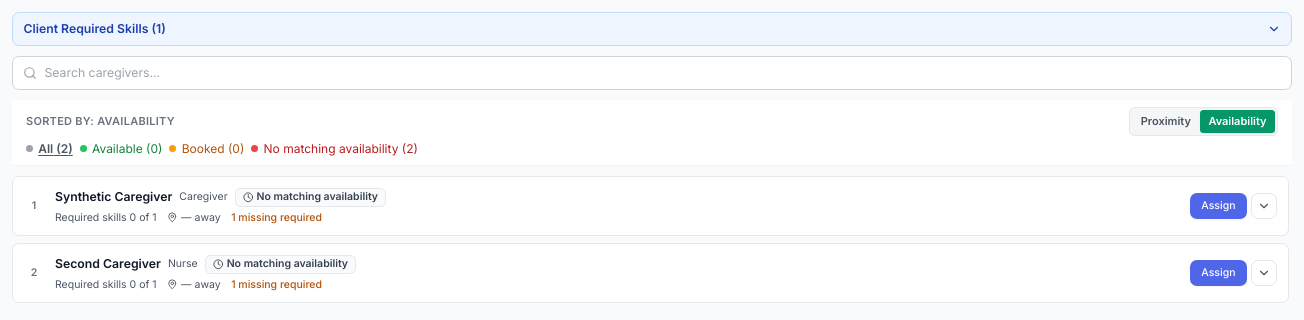
Test: direct caregiver assignment › search narrows modal results and availability counts without changing assignment rules
Type "Nurse" into the search field named "Search caregivers by name or role" at (652, 73), box [12,56,1292,90]
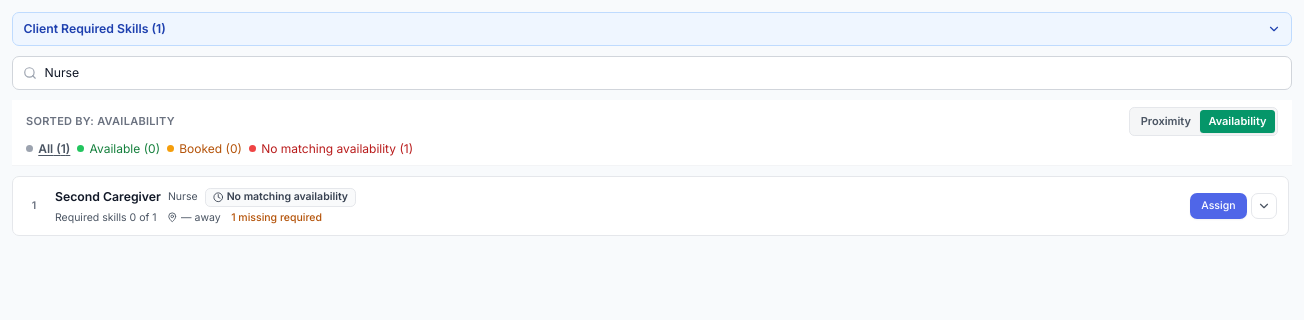
Expected: the text "Second Caregiver" is shown, [55,188,161,206]
Expected: the text "Synthetic Caregiver" is gone
Expected: the button "All (1)" is shown, [26,140,70,158]
